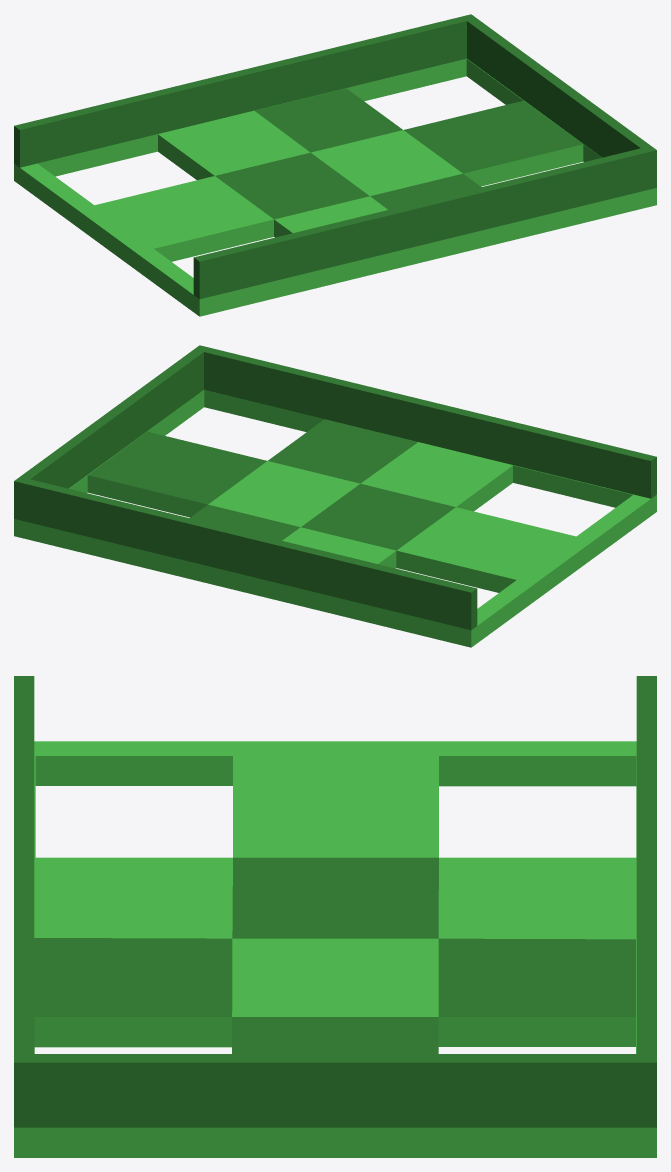
The model's file is floor3.fbx.
3 renders of one model, top to bottom at view 1: azimuth 30°, elevation 25°; view 2: azimuth 150°, elevation 25°; view 3: azimuth 270°, elevation 25°, orthographic. The views are drawn at different scales.
Visible parts, largest first — view 1: pCube12; view 2: pCube12; view 3: pCube12.
Boxes of the visible parts, x1=… form: pCube12: x1=14, y1=14, x2=656, y2=316; pCube12: x1=14, y1=345, x2=656, y2=647; pCube12: x1=14, y1=676, x2=656, y2=1157.
Bounding box in the file's own units: 22.4 × 2.58 × 15.75.
